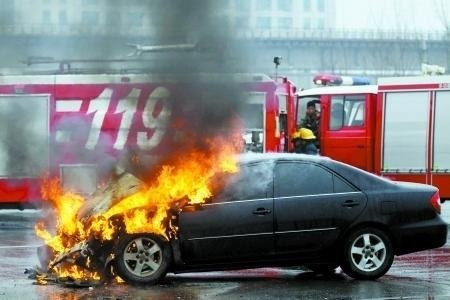fire: (33, 122, 244, 284)
